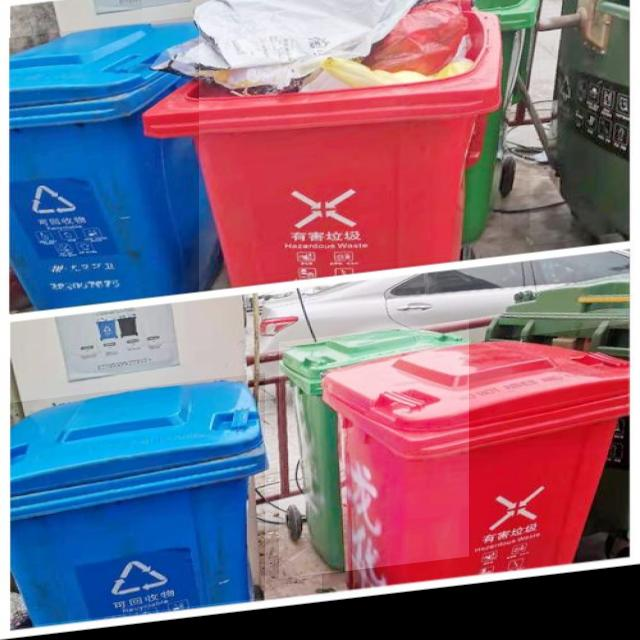garbage_bin: (322, 340, 628, 600), (9, 379, 265, 628), (8, 21, 200, 314), (279, 331, 469, 586), (530, 0, 630, 259)
overflow: (142, 0, 501, 300)
